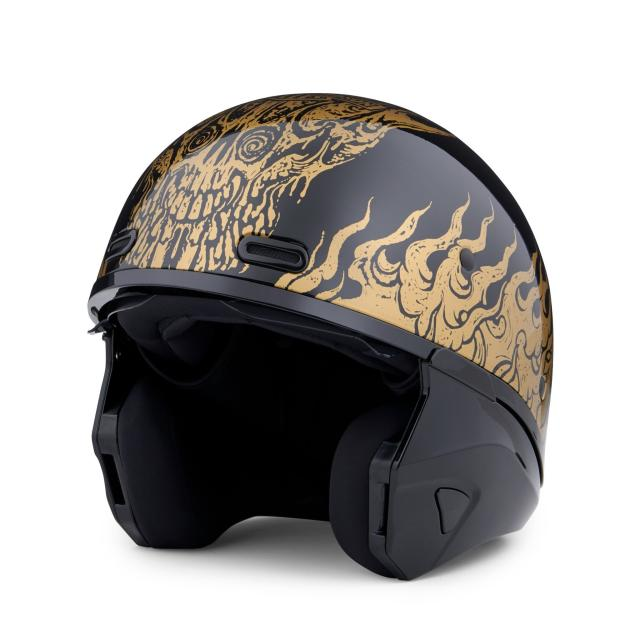Helmet: (96, 65, 565, 578)
